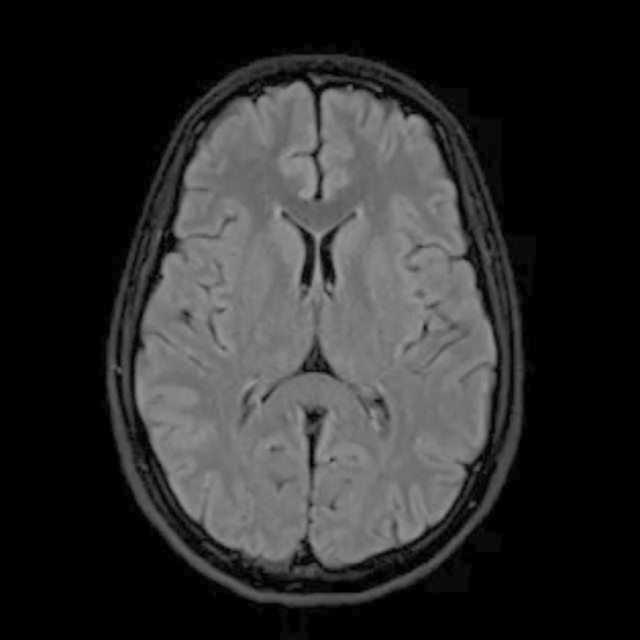glioma tumor: (186, 109, 444, 551)
